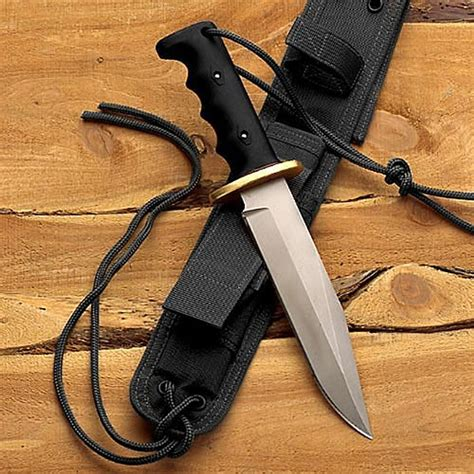knife: (154, 17, 373, 440)
